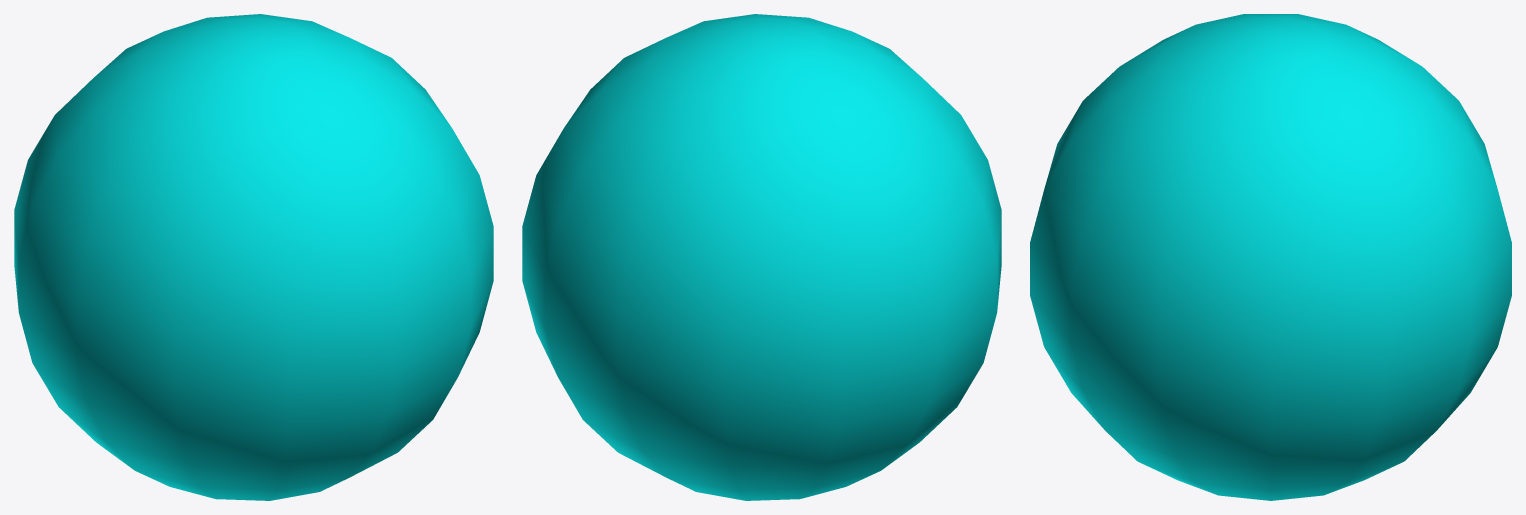
File: Ball.fbx
The picture shows the model from 3 angles, left to right: view 1: azimuth 30°, elevation 25°; view 2: azimuth 150°, elevation 25°; view 3: azimuth 270°, elevation 25°; orthographic projection.
Parts seen in each view (by area): view 1: Ball; view 2: Ball; view 3: Ball.
Boxes of the visible parts, x1,y1,x2,y2 form: Ball: [14, 14, 493, 500]; Ball: [522, 14, 1001, 500]; Ball: [1030, 14, 1511, 500].
Size of the model in its own units: 0.2729 by 0.279 by 0.2749.
